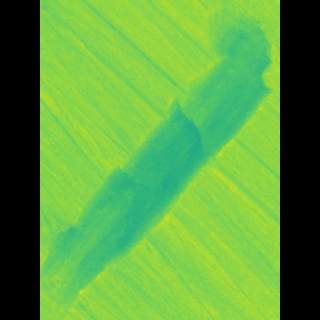Loch: (69, 11, 246, 314)
